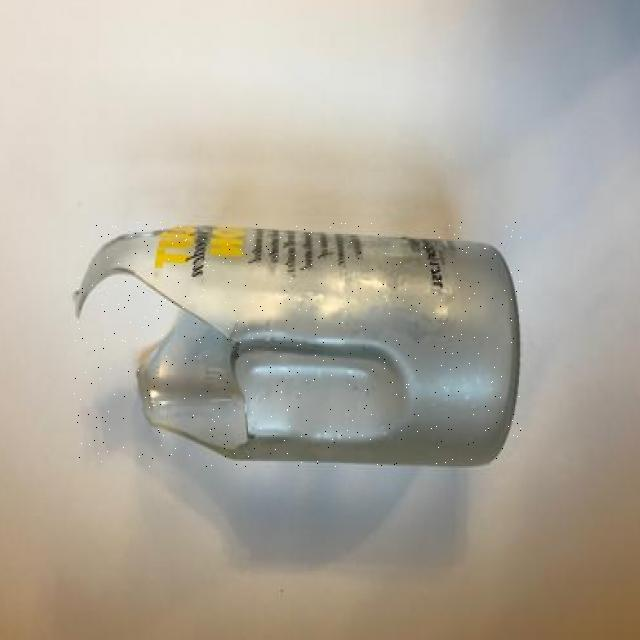glass: (73, 222, 522, 468)
